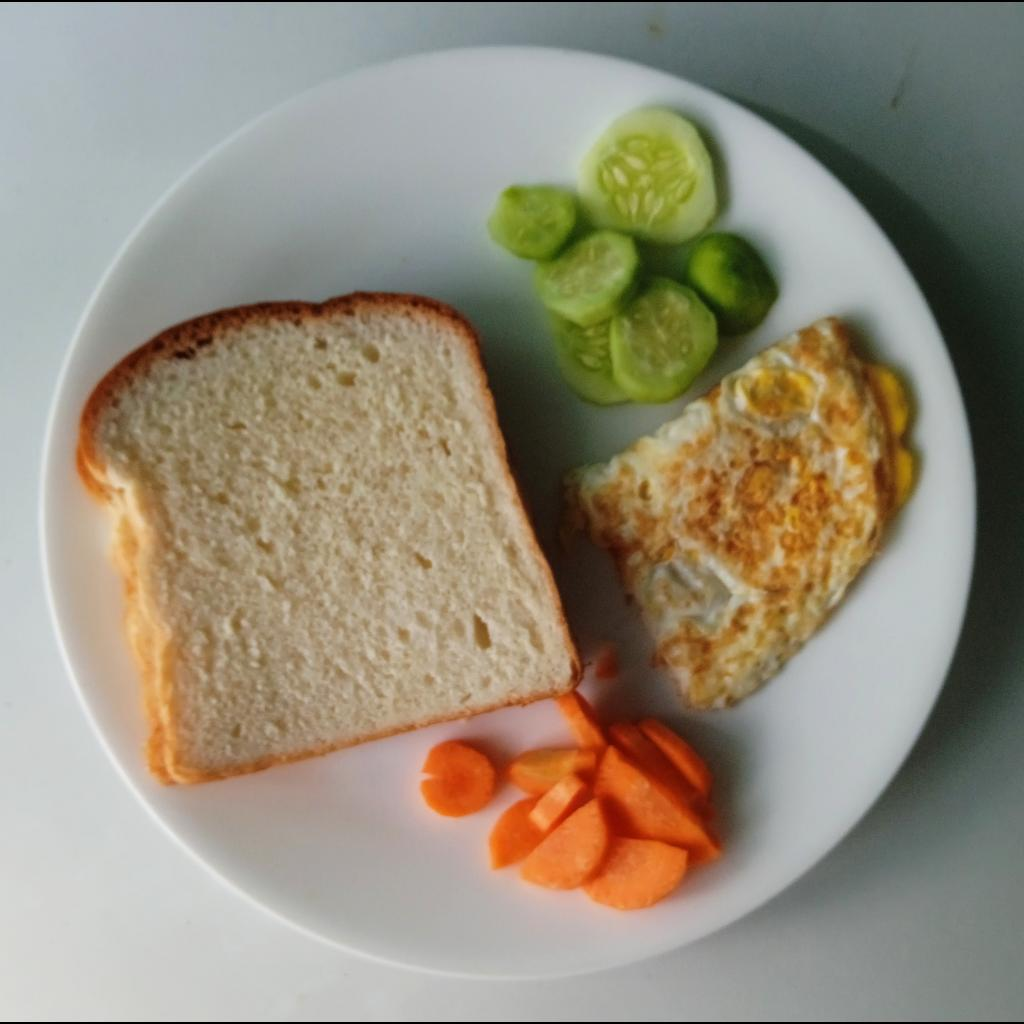bread: (76, 290, 581, 790)
carrot: (418, 693, 721, 913)
cucumber: (485, 102, 785, 409)
egg-poached: (568, 316, 917, 707)
